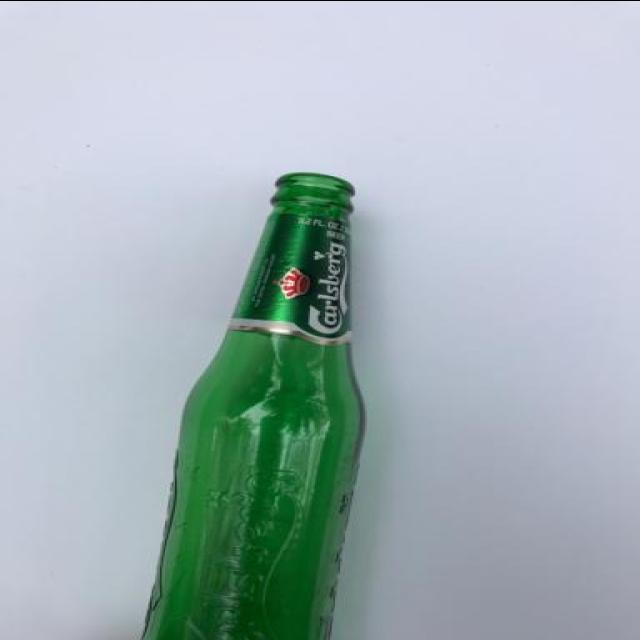glass: (136, 166, 416, 640)
